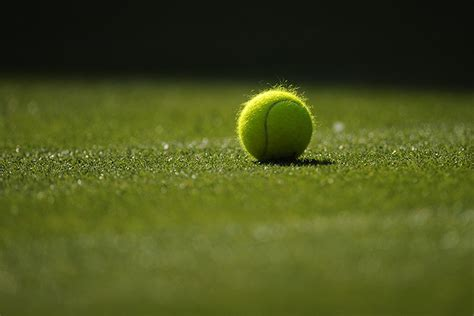tennis_ball: (236, 85, 314, 163)
